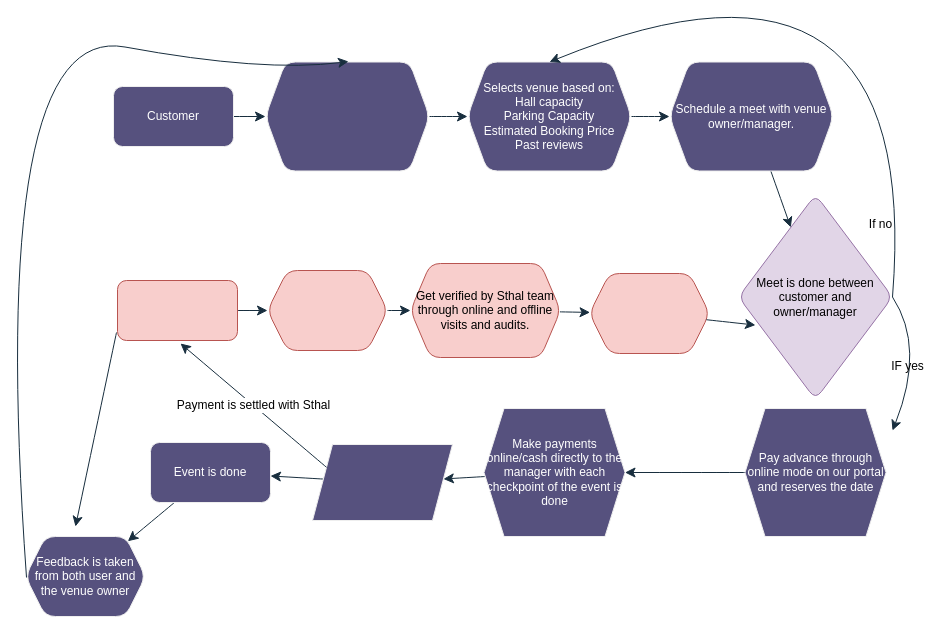
Some shapes in this 941 by 635 pixel diagram are drawn without their labels. Each missing label, with the centre of its shape:
"Final Payment Done" belongs at point (382, 482).
"Get listed" belongs at point (649, 313).
"Request to list venue on our platform" belongs at point (327, 310).
"Venue owner/manager" belongs at point (177, 310).
"Web/Mobile Platfrom" belongs at point (347, 116).
